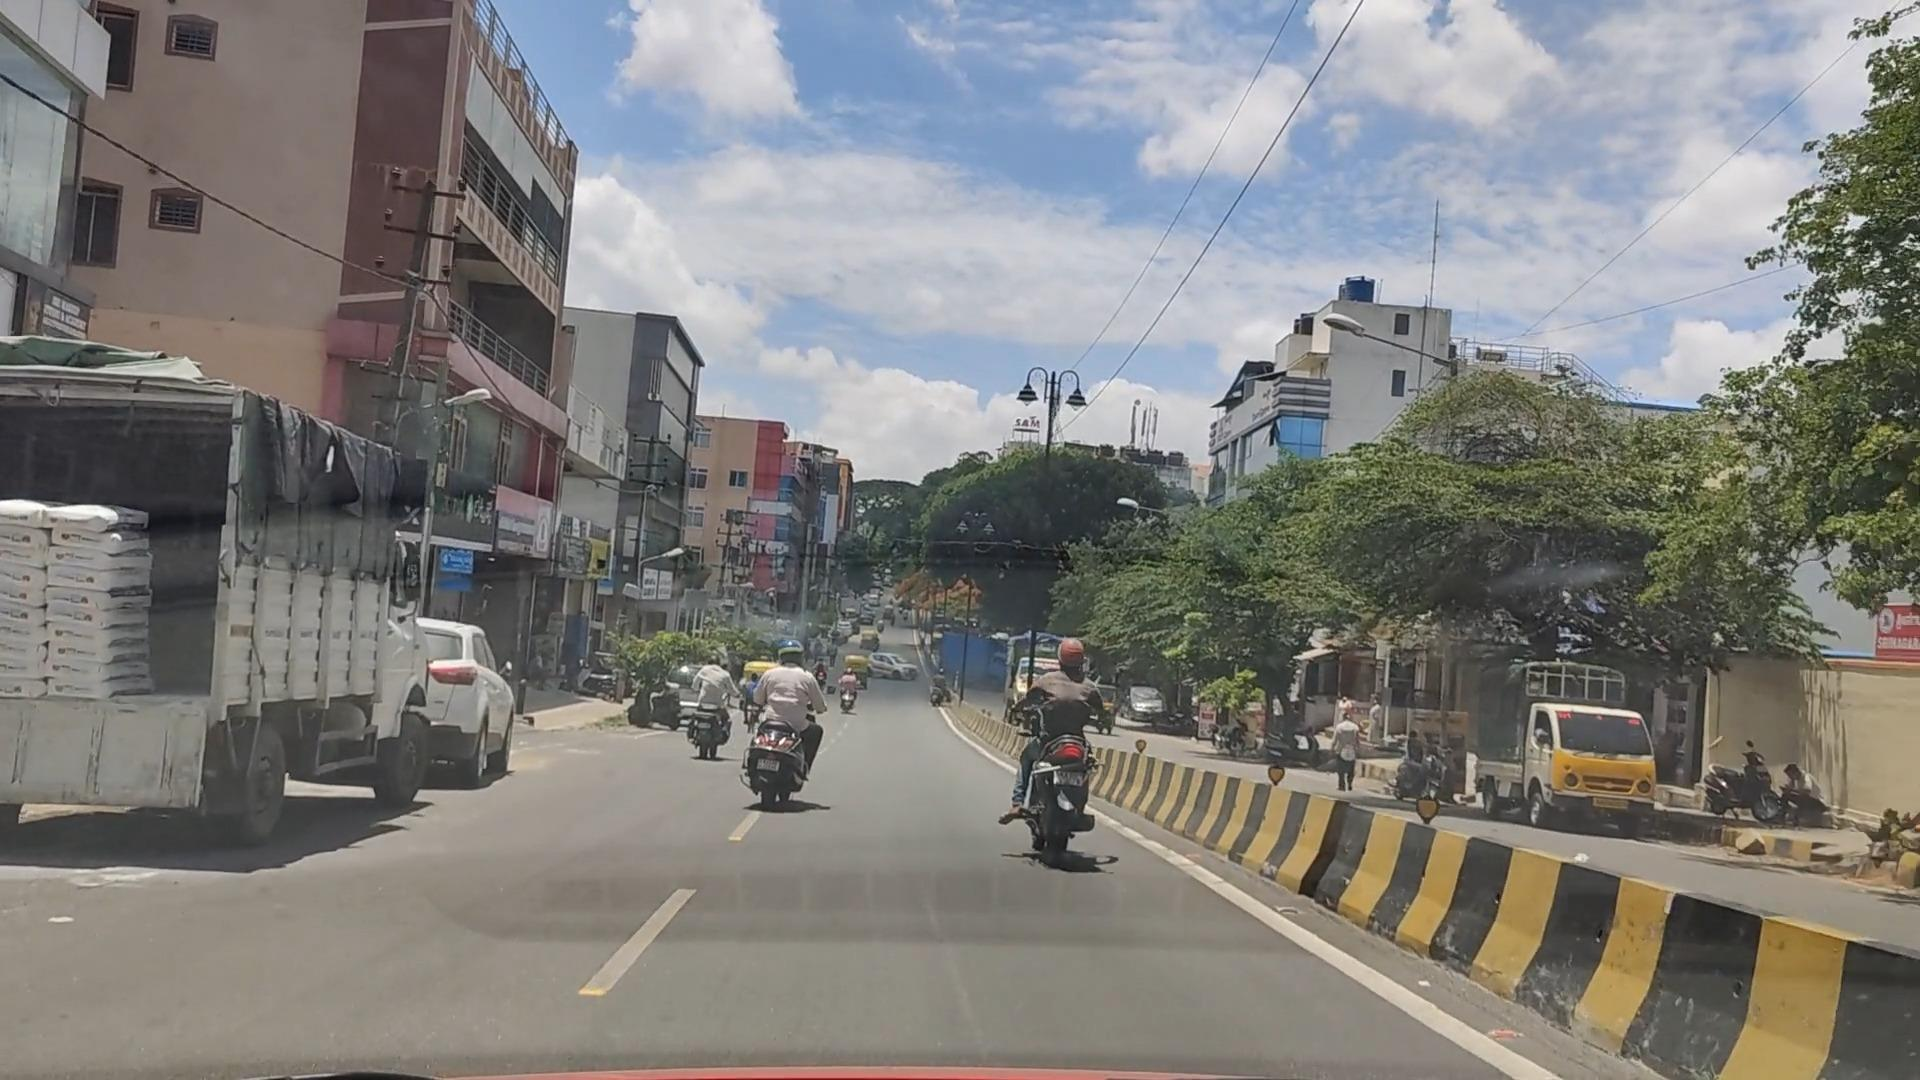HMV: (8, 360, 442, 856)
LMV: (982, 608, 1117, 882), (705, 644, 837, 812)
